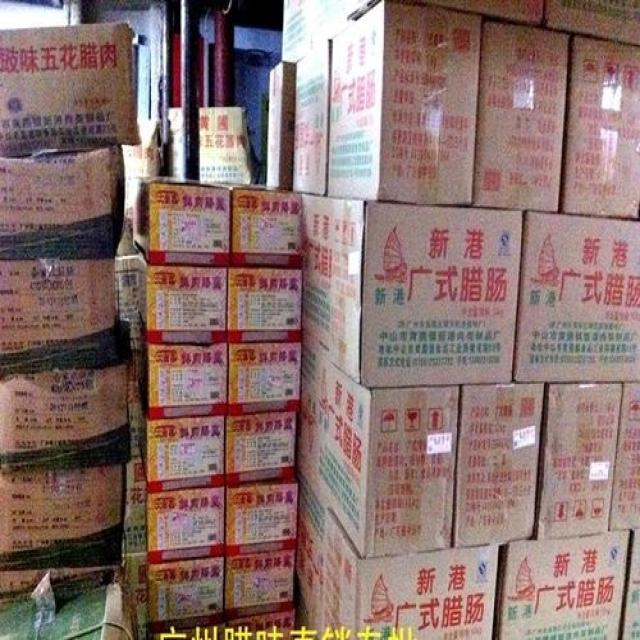box: (329, 200, 522, 391), (328, 0, 483, 207), (316, 353, 463, 560), (317, 504, 502, 640), (513, 210, 640, 385), (0, 21, 142, 156), (472, 20, 571, 212), (453, 384, 549, 551), (0, 257, 133, 374), (0, 360, 132, 475), (494, 530, 631, 640), (562, 32, 640, 219), (0, 148, 127, 262), (535, 383, 622, 542), (0, 463, 128, 570), (0, 563, 140, 640), (132, 177, 236, 267), (136, 390, 224, 495), (137, 319, 228, 418), (137, 249, 228, 343), (293, 457, 330, 640), (291, 37, 332, 198), (146, 556, 224, 636), (229, 187, 302, 270), (146, 489, 227, 563), (224, 477, 298, 557), (225, 340, 302, 414), (227, 267, 302, 342), (224, 411, 297, 487), (300, 193, 334, 349), (296, 328, 328, 487), (200, 107, 264, 184), (225, 550, 296, 619), (384, 0, 541, 30), (609, 381, 640, 532), (541, 0, 640, 45), (312, 0, 384, 51), (266, 60, 294, 190), (120, 461, 148, 556), (618, 527, 640, 640), (122, 553, 147, 640), (224, 610, 293, 640), (282, 0, 312, 62)
